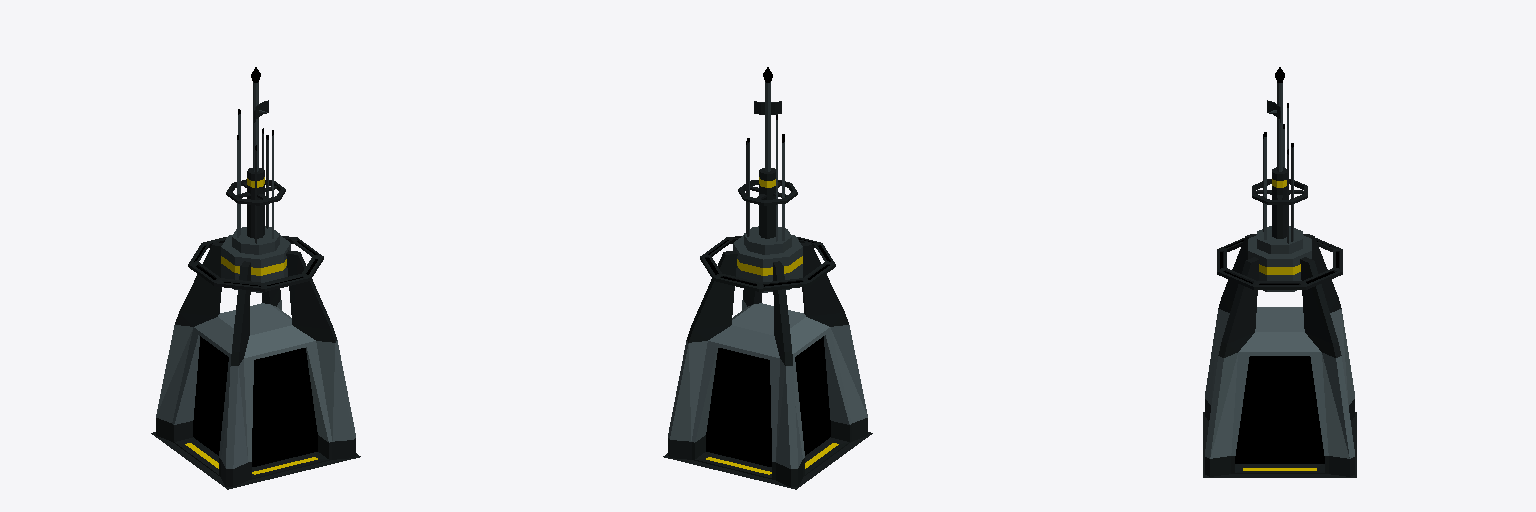
3 views of the same model, side by side, from view 1: azimuth 30°, elevation 25°; view 2: azimuth 150°, elevation 25°; view 3: azimuth 270°, elevation 25° (orthographic).
Visible parts, largest first — view 1: Cube_Cube.003; view 2: Cube_Cube.003; view 3: Cube_Cube.003.
Boxes of the visible parts, <box> form: Cube_Cube.003: <box>151,67,360,489</box>; Cube_Cube.003: <box>663,67,872,489</box>; Cube_Cube.003: <box>1203,67,1356,477</box>.
Size of the model in its own units: 2 by 5.41 by 2.
Materials: 1 (1 with a texture image).